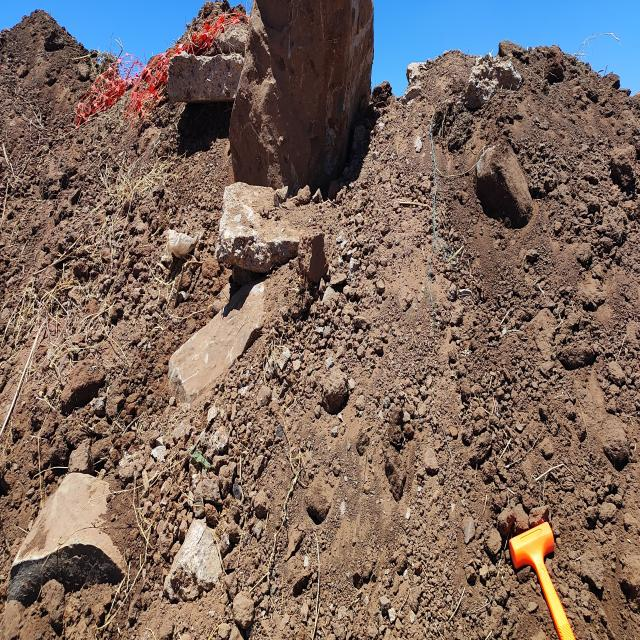Orange_hammer: (508, 517, 576, 639)
